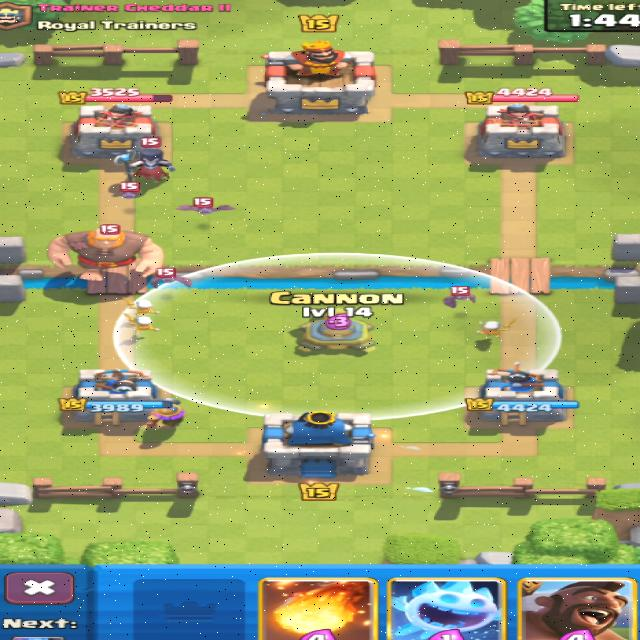Enemy-Bat: (177, 198, 233, 214), (152, 268, 190, 287), (444, 286, 475, 308), (121, 181, 139, 198)
Enemy-Giant: (49, 229, 162, 281)
Enemy-KingTower: (265, 41, 375, 113)
Enemy-NightWitch: (114, 137, 174, 180)
Enemy-PrincessTower: (474, 104, 563, 164), (71, 104, 158, 158)
Player-KingTower: (262, 411, 374, 478)
Player-Musketeer: (148, 400, 184, 428)
Player-PrincessTower: (466, 363, 577, 426), (59, 368, 179, 426)
Player-Skeleton: (126, 314, 158, 336), (477, 321, 515, 337), (124, 298, 158, 314)
